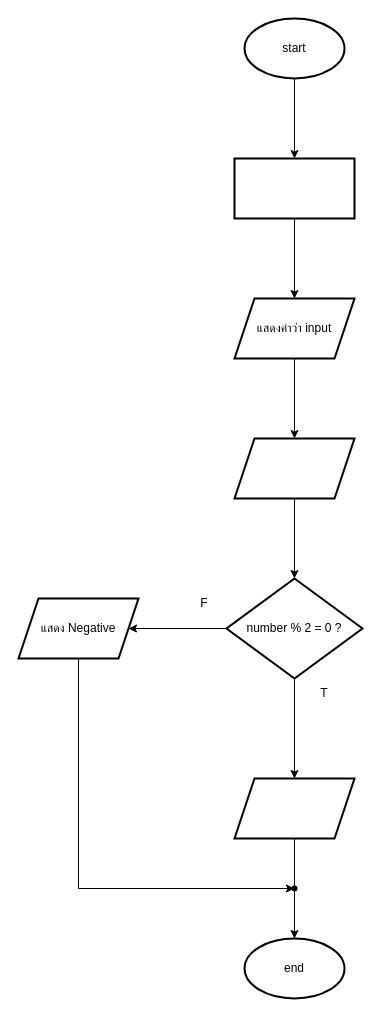
The diagram is 380 pixels wide and 1016 high, and some of its shapes have lost their labels. The shapes that lost their labels are listed below. From the top down, each one's box as (x1, y1, x2, y2) in pixels, then its label:
(233, 157, 355, 219): สร้างตัวแปร num
(233, 437, 355, 499): รับค่าจากผู้ใช้
(233, 777, 355, 839): แสดง Positive
